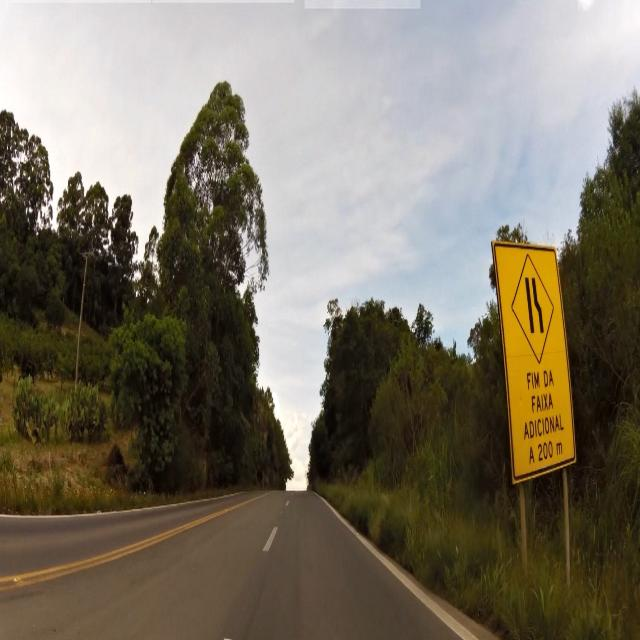A-21c: (499, 241, 562, 355)
